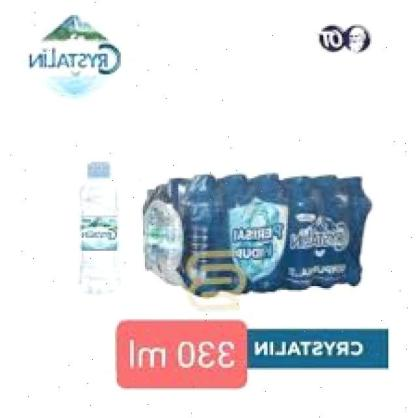bottle: (58, 150, 124, 303)
cap: (82, 158, 112, 180)
label: (75, 215, 119, 252)
